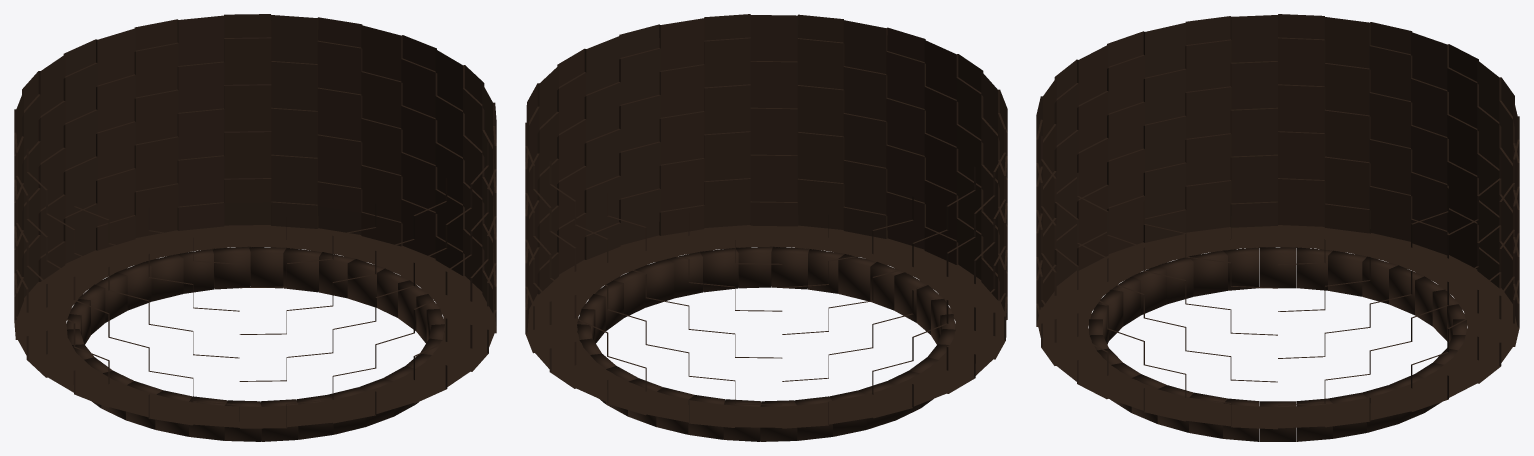
File: Enviro_Prototype.fbx
3 renders of one model, left to right at view 1: azimuth 30°, elevation 25°; view 2: azimuth 150°, elevation 25°; view 3: azimuth 270°, elevation 25°, orthographic.
Visible parts, largest first — view 1: Tembok, Platform; view 2: Tembok, Platform; view 3: Tembok, Platform.
Boxes of the visible parts, box(x1,y1,x2,y2) form: Tembok: box(14, 14, 496, 428); Platform: box(16, 225, 494, 441); Tembok: box(525, 14, 1007, 428); Platform: box(527, 225, 1003, 441); Tembok: box(1036, 14, 1519, 429); Platform: box(1038, 226, 1517, 441).
Bounding box in the file's own units: 268 × 150 × 268.
